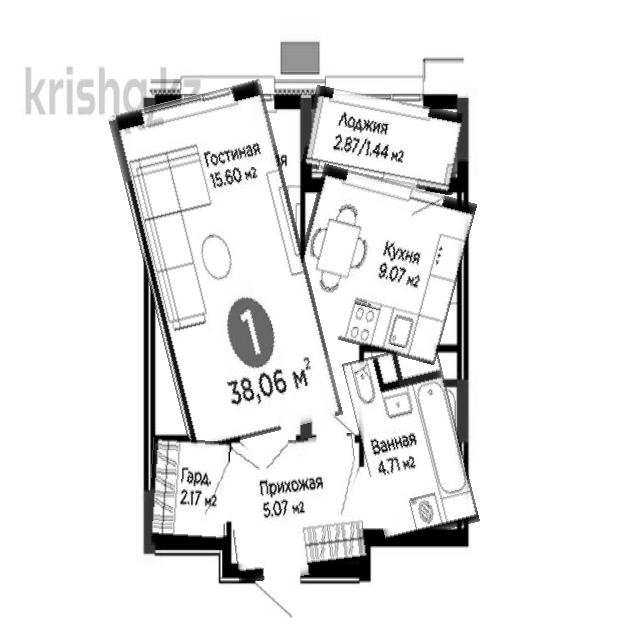balcony: (305, 92, 465, 189)
bathroom: (353, 346, 469, 540)
hallway: (227, 437, 364, 579)
kitchen: (292, 172, 468, 357)
living_room: (127, 86, 324, 446)
other: (148, 439, 230, 549)
